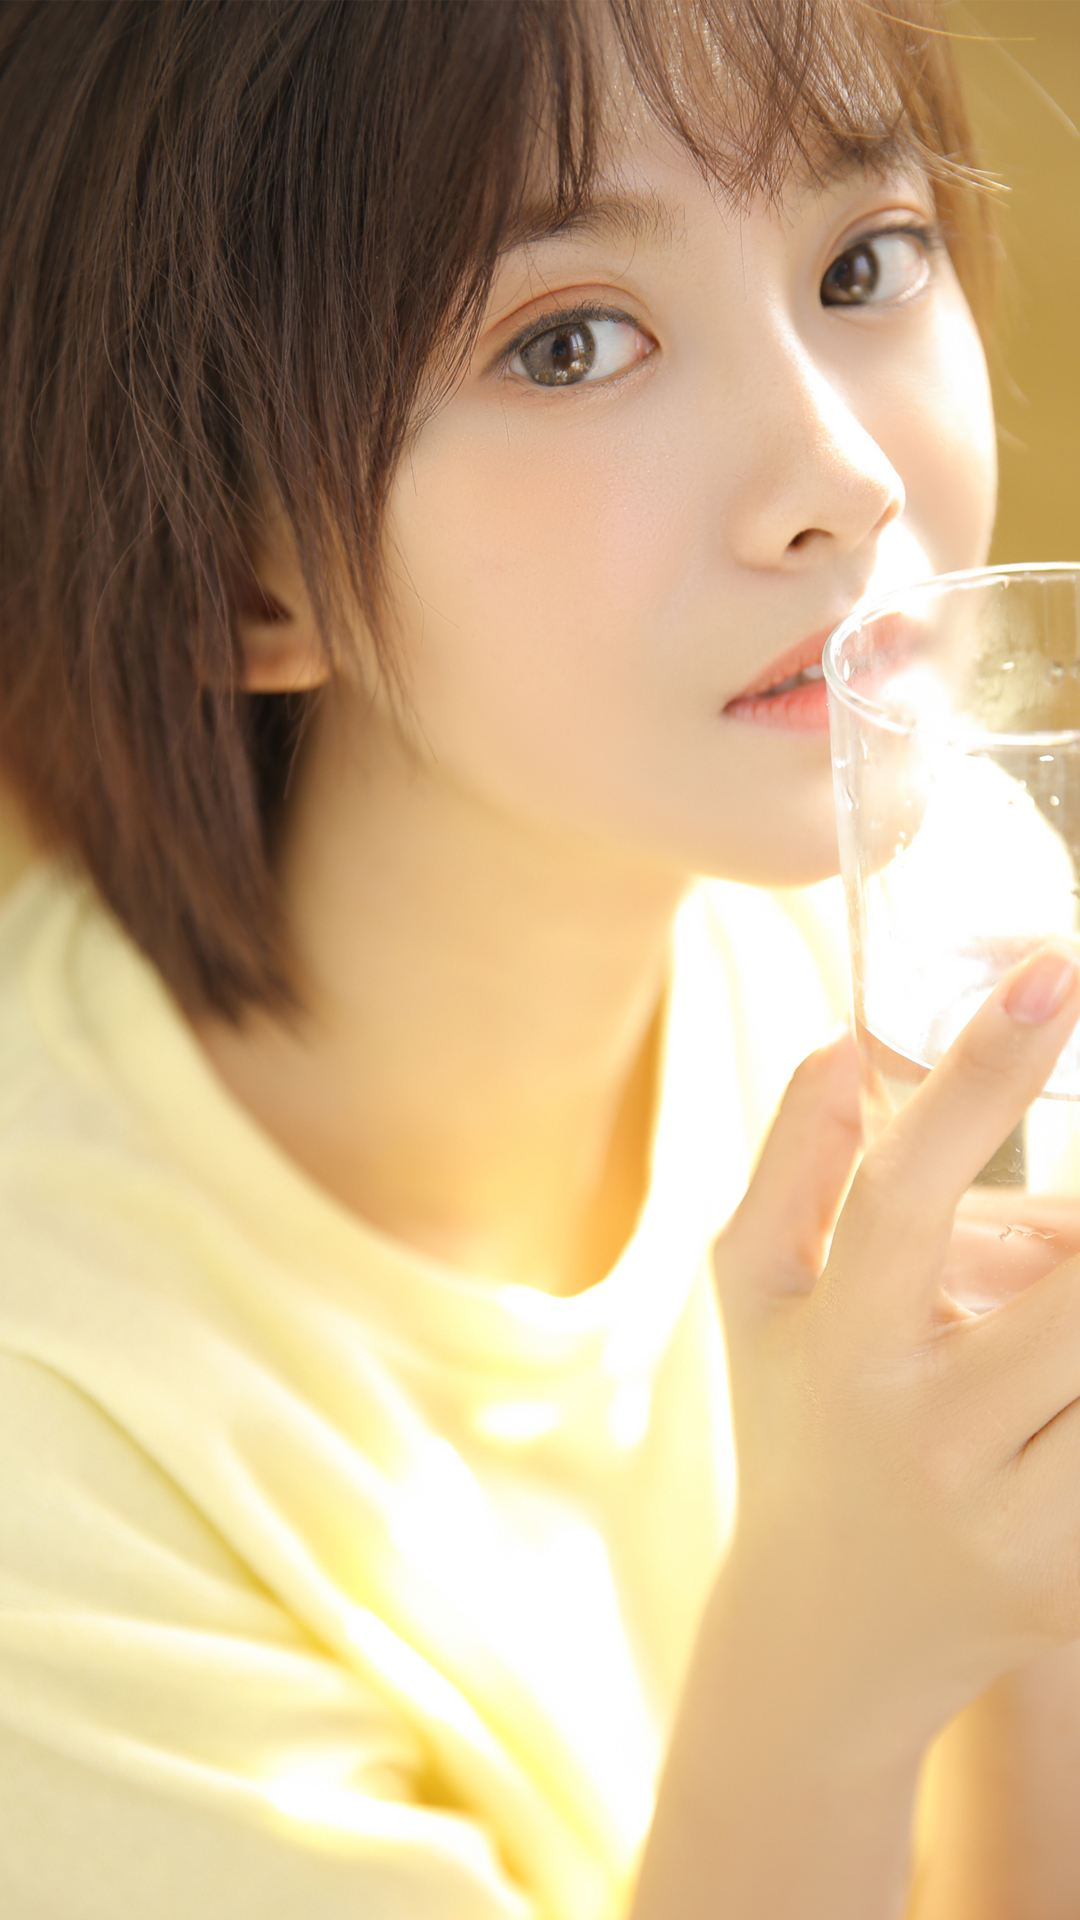person: (22, 2, 1040, 1572)
